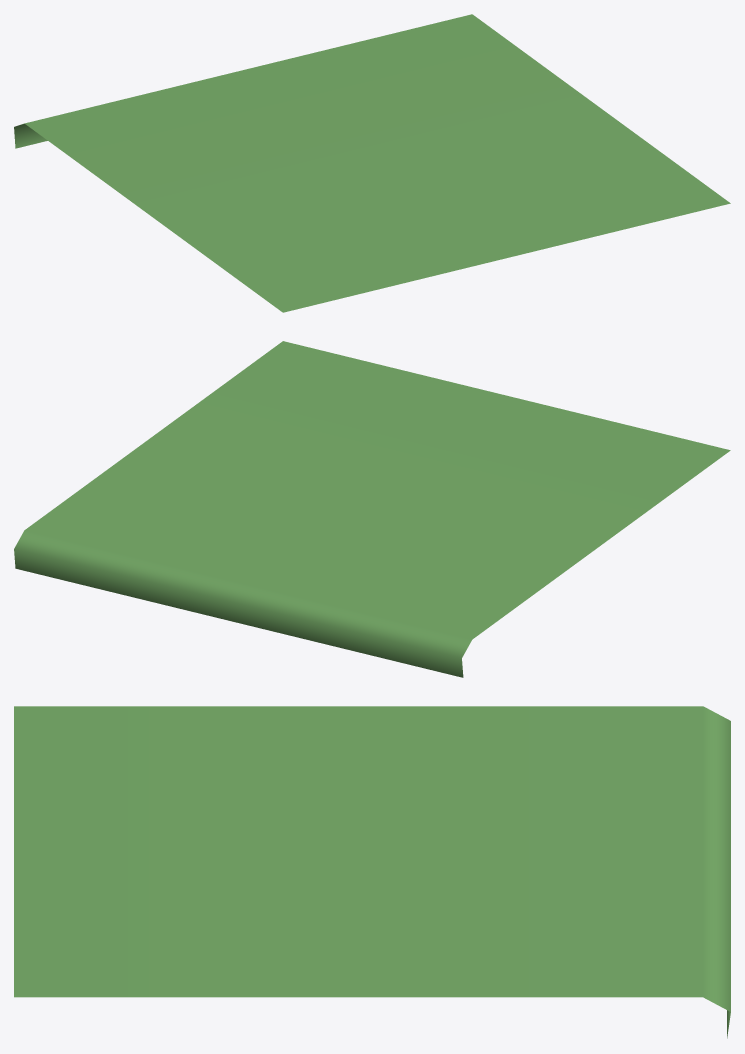
File: GrassHangingTile.fbx
3 renders of one model, top to bottom at view 1: azimuth 30°, elevation 25°; view 2: azimuth 150°, elevation 25°; view 3: azimuth 270°, elevation 25°, orthographic. The views are drawn at different scales.
Parts seen in each view (by area): view 1: HangingGrass_Tile; view 2: HangingGrass_Tile; view 3: HangingGrass_Tile.
Part boxes in pixels (bbox=[...]): HangingGrass_Tile: bbox=[14, 14, 730, 312]; HangingGrass_Tile: bbox=[14, 341, 730, 677]; HangingGrass_Tile: bbox=[14, 706, 730, 1038].
Size of the model in its own units: 2 by 0.1356 by 2.08.
